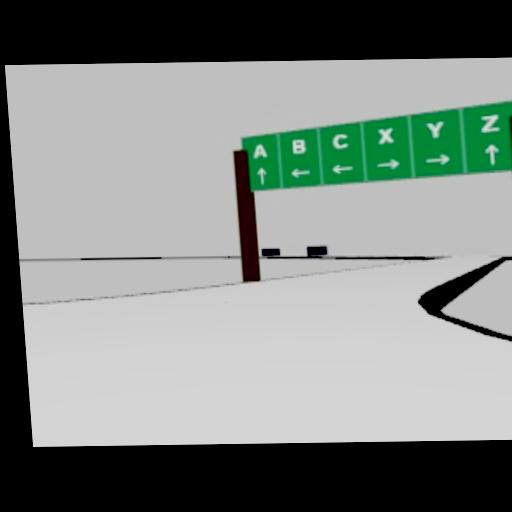A: (252, 142, 266, 158)
B: (291, 138, 305, 153)
C: (331, 131, 348, 149)
Left: (330, 164, 354, 174), (290, 168, 312, 178)
Right: (424, 154, 451, 165), (375, 159, 400, 170)
Straight: (485, 143, 499, 164), (256, 166, 267, 184)
X: (376, 127, 395, 144)
Y: (425, 120, 445, 138)
Z: (477, 113, 502, 133)
